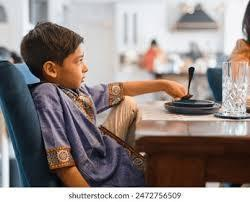Human: (14, 17, 203, 190)
